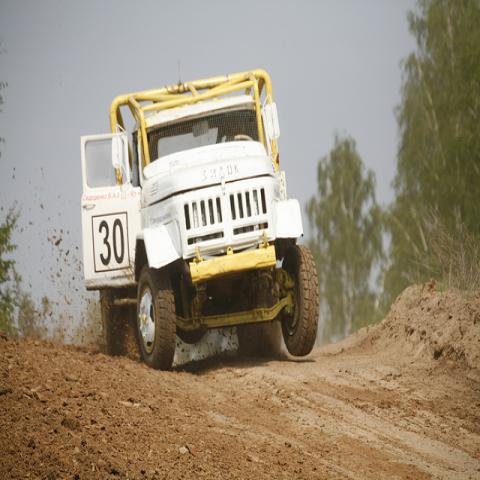truck: (83, 66, 320, 367)
